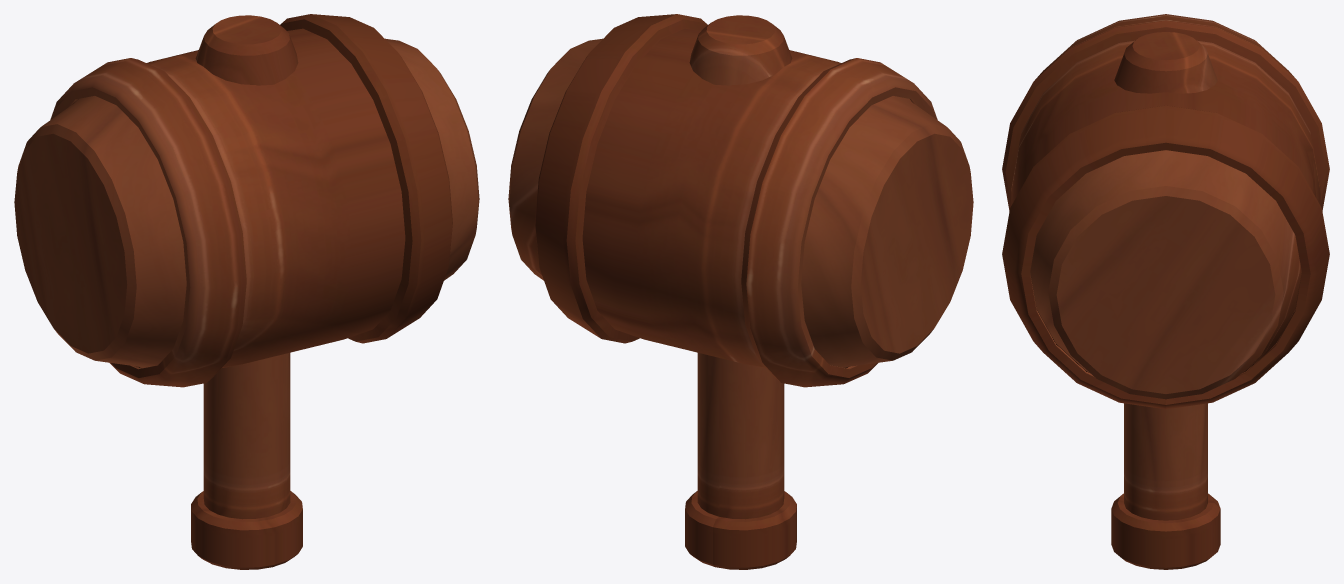
File: Hammer.fbx
3 views of the same model, side by side, from view 1: azimuth 30°, elevation 25°; view 2: azimuth 150°, elevation 25°; view 3: azimuth 270°, elevation 25° (orthographic). The views are drawn at different scales.
Visible parts, largest first — view 1: pCylinder1; view 2: pCylinder1; view 3: pCylinder1.
Boxes of the visible parts, bbox=[...] form: pCylinder1: bbox=[14, 14, 479, 569]; pCylinder1: bbox=[508, 14, 973, 569]; pCylinder1: bbox=[1002, 14, 1329, 569].
Bounding box in the file's own units: 233 × 327 × 193.
